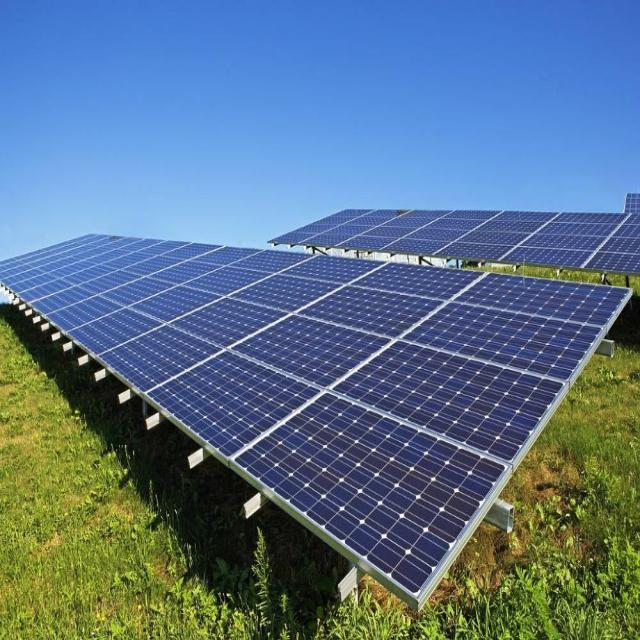clean-solar-panel: (0, 235, 631, 608), (270, 193, 640, 276)
